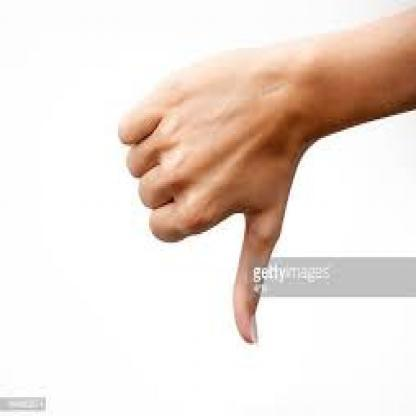thumb_down: (116, 40, 304, 348)
